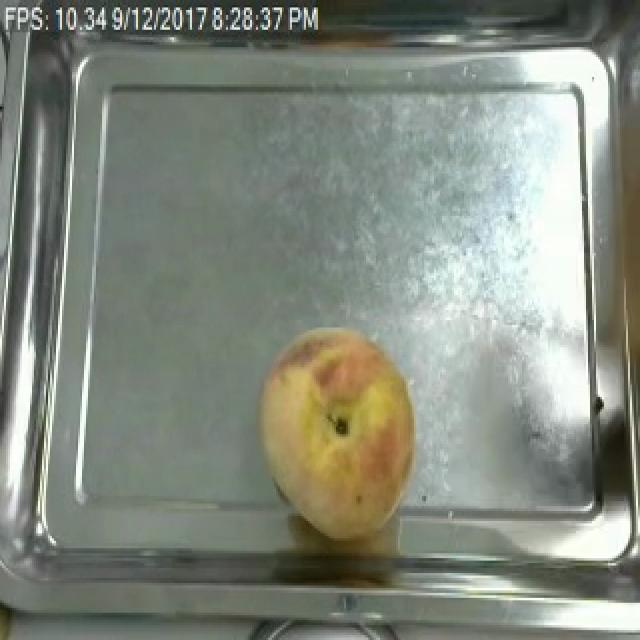Fruit: (246, 320, 426, 543)
